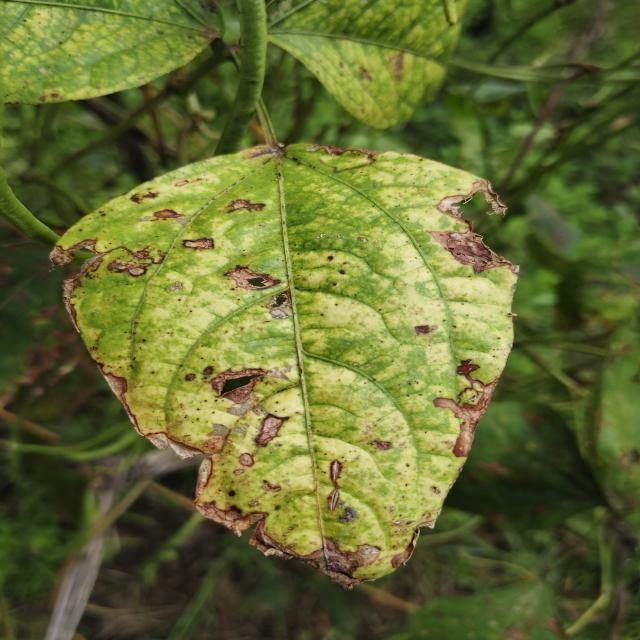leaf-moderate: (50, 141, 519, 579)
sitaw-aphid-low: (268, 0, 466, 129), (0, 0, 224, 104)
sitaw-healthy: (215, 0, 283, 156), (271, 0, 312, 25)
